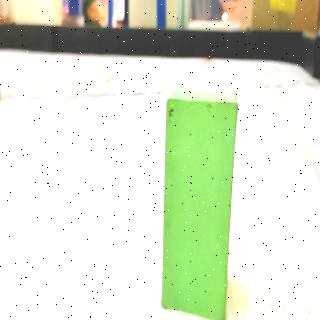greenbox: (161, 83, 241, 320)
